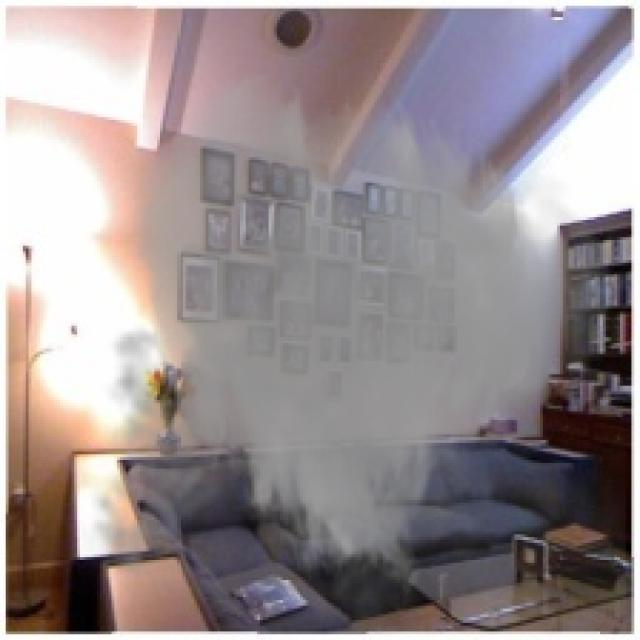smoke: (74, 69, 626, 634)
